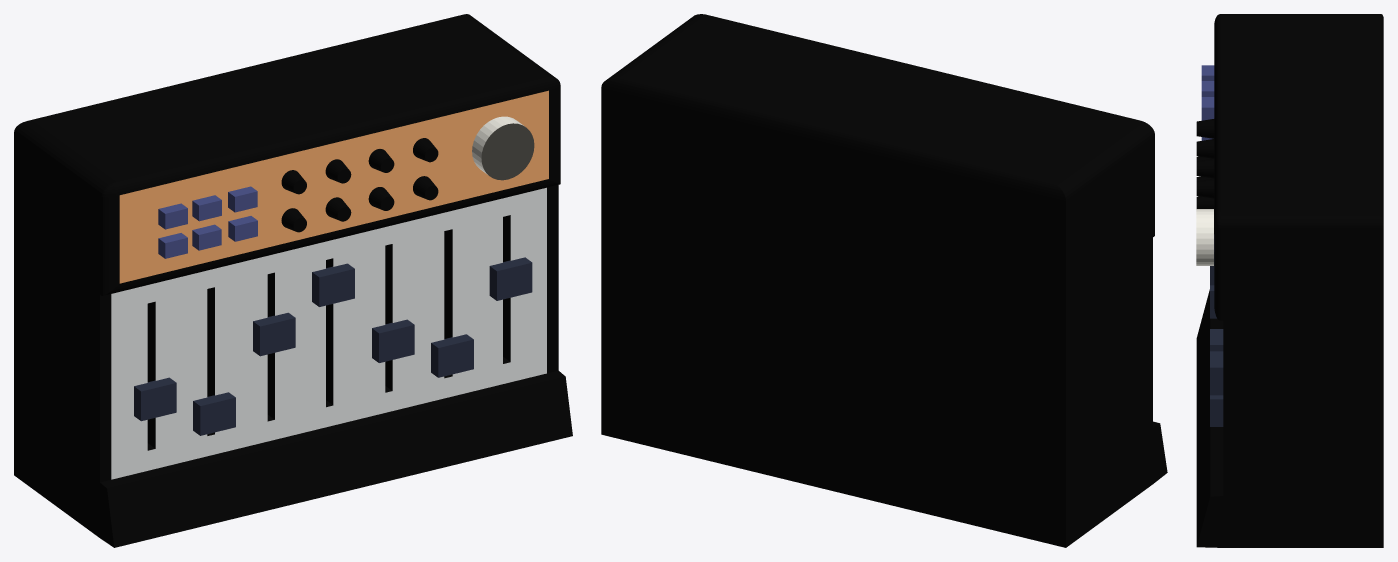
Rendered from mixer7Unico.fbx.
3 views of the same model, side by side, from view 1: azimuth 30°, elevation 25°; view 2: azimuth 150°, elevation 25°; view 3: azimuth 270°, elevation 25° (orthographic). The views are drawn at different scales.
Visible parts, largest first — view 1: Mixer7Unico; view 2: Mixer7Unico; view 3: Mixer7Unico.
Part boxes in pixels (x1,y1,x2,y2): Mixer7Unico: (14,14,572,547); Mixer7Unico: (601,14,1167,547); Mixer7Unico: (1196,14,1383,547).
Size of the model in its own units: 193 by 143 by 73.45.
